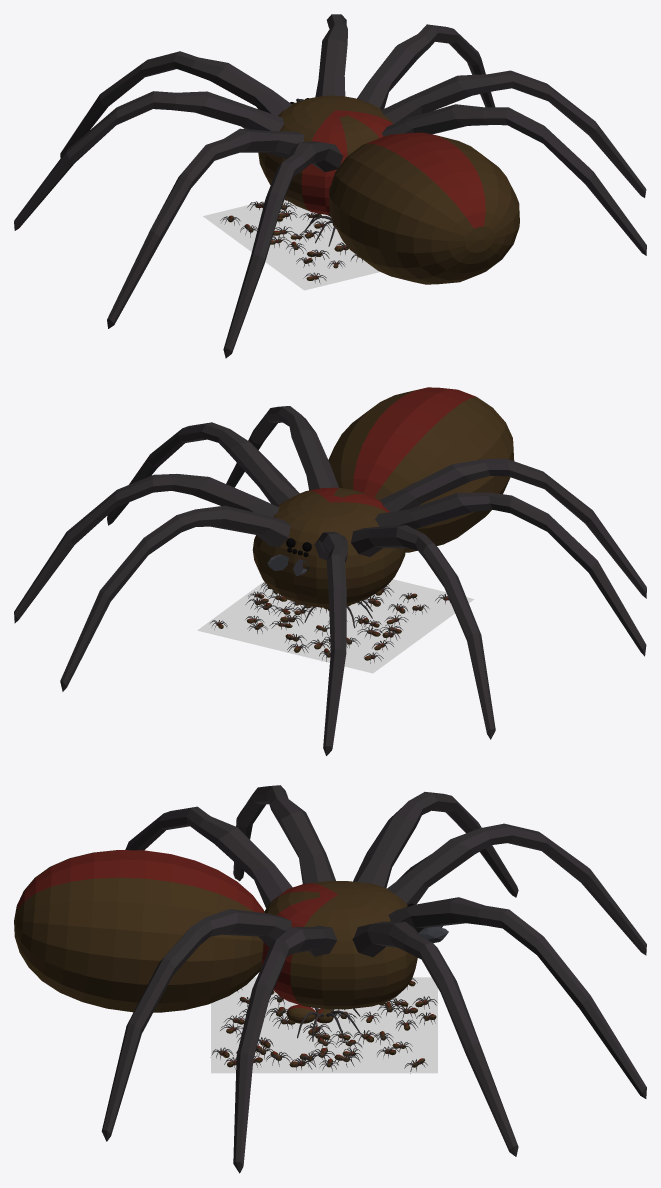
Rendered from polySpiders.glb.
3 renders of one model, top to bottom at view 1: azimuth 30°, elevation 25°; view 2: azimuth 150°, elevation 25°; view 3: azimuth 270°, elevation 25°, orthographic. The views are drawn at different scales.
Parts seen in each view (by area): view 1: SpiderBig, Plane, SpiderPile; view 2: SpiderBig, Plane, SpiderPile; view 3: SpiderBig, Plane, SpiderPile, Spider.
Part boxes in pixels (x1,y1,x2,y2): SpiderBig: [14, 14, 646, 358]; Plane: [203, 199, 379, 290]; SpiderPile: [220, 198, 362, 283]; SpiderBig: [14, 387, 646, 755]; Plane: [197, 579, 474, 673]; SpiderPile: [210, 582, 450, 663]; SpiderBig: [14, 785, 646, 1173]; Plane: [211, 977, 437, 1073]; SpiderPile: [210, 978, 437, 1073]; Spider: [286, 1004, 360, 1041].
Size of the model in its own units: 61.07 by 16.47 by 55.76.
